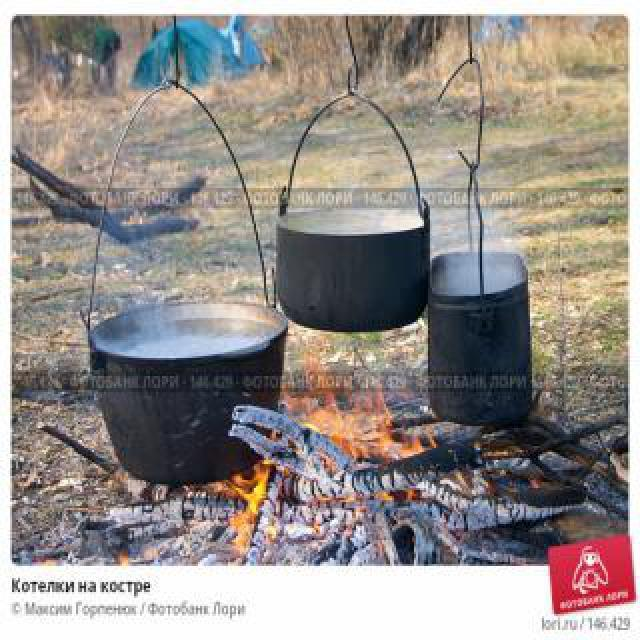smoke: (428, 154, 524, 304)
zfire: (230, 396, 464, 552)
